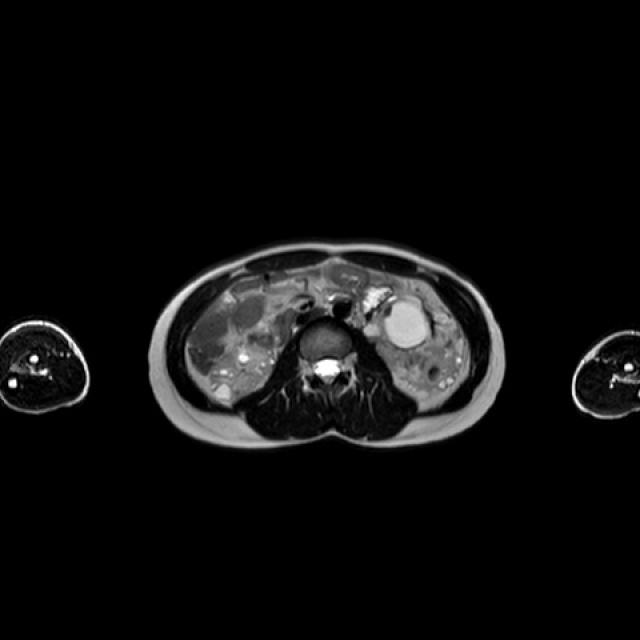sag: (206, 339, 272, 399)
sol: (367, 282, 464, 394)
